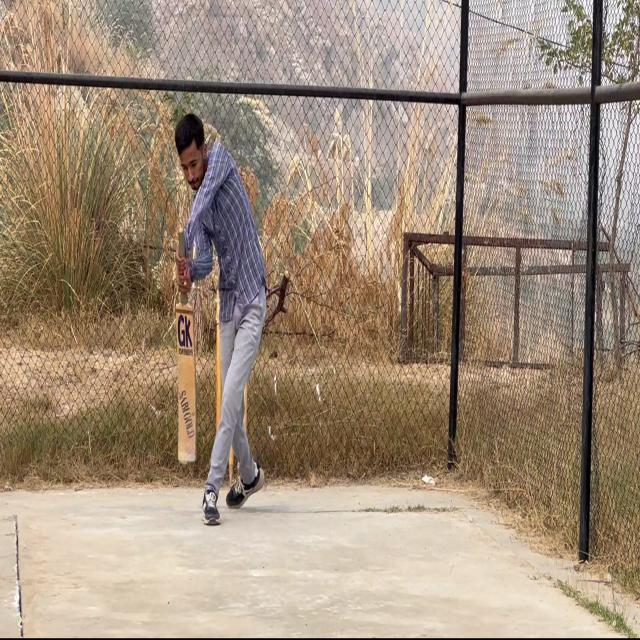Batsman: (160, 104, 279, 528)
